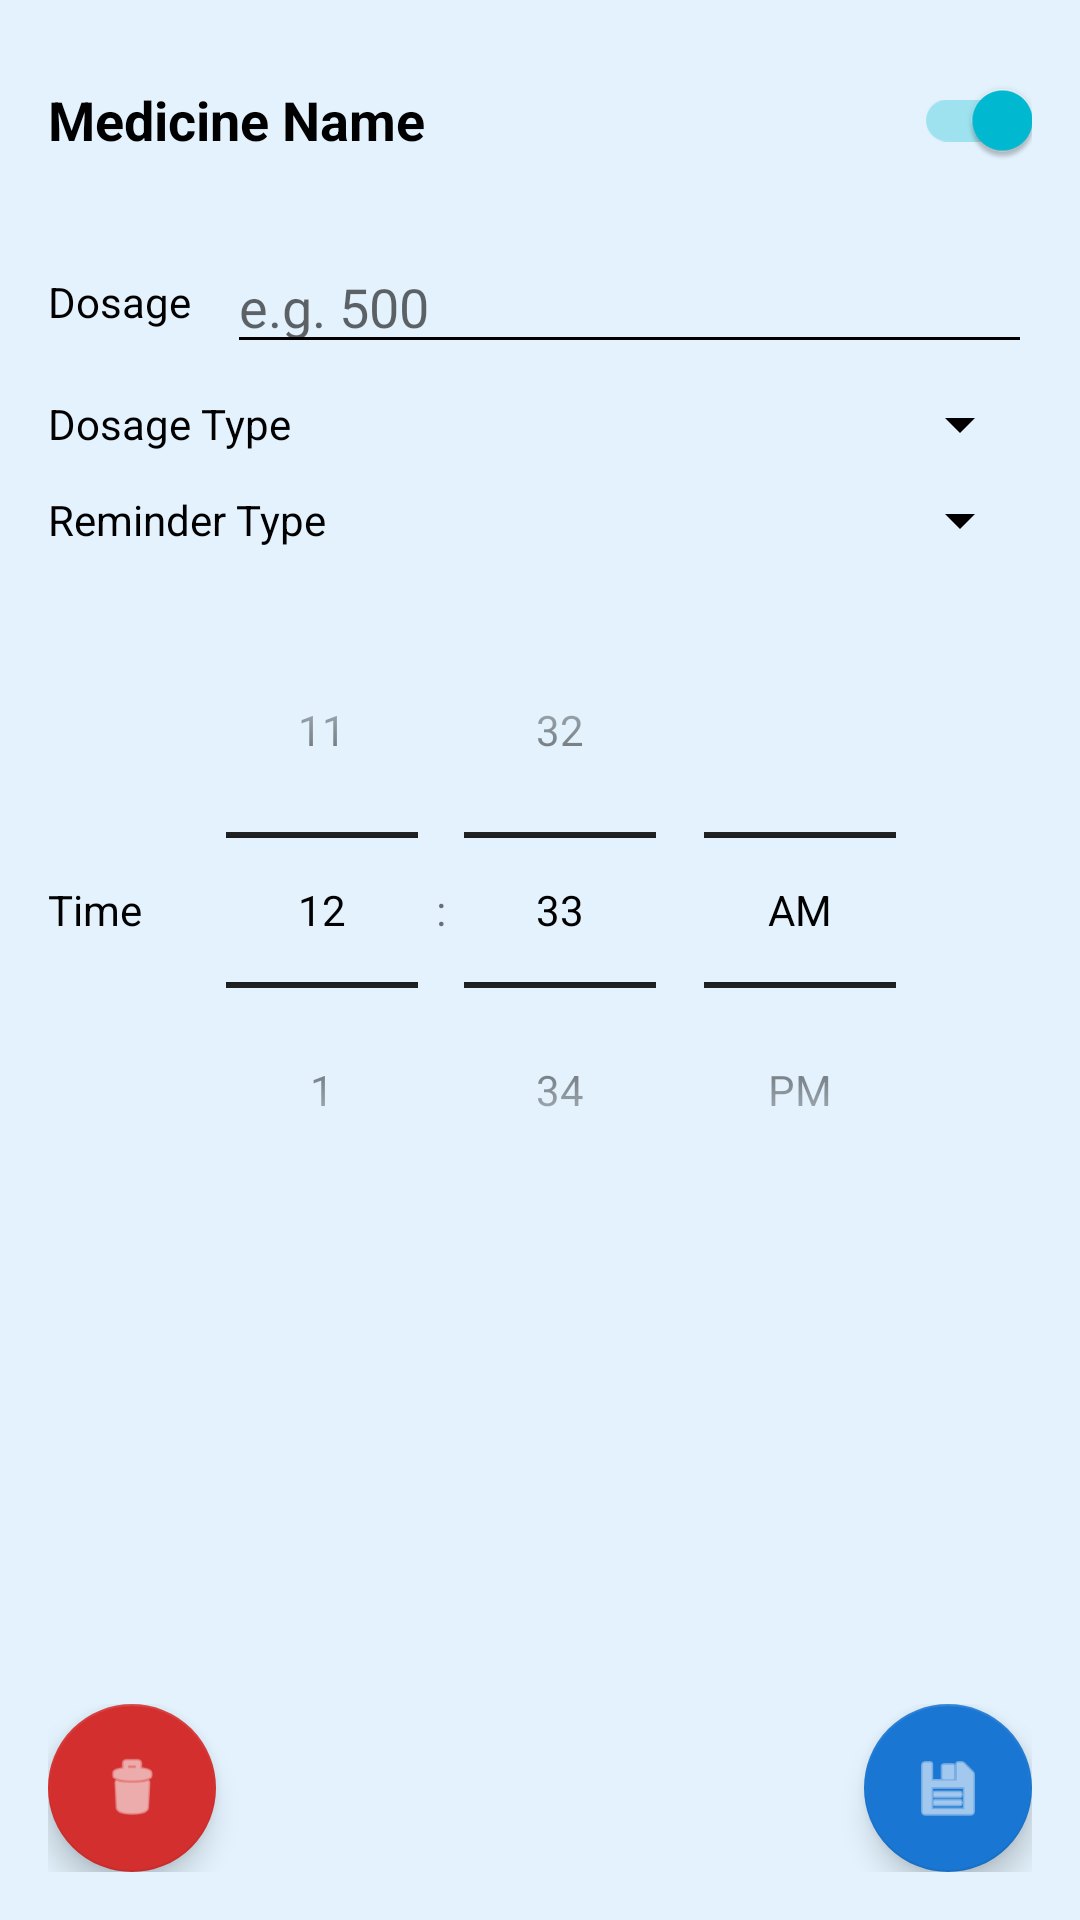

Icon click points for this 1080x1920 phone screenshot, format (x=x, y=y):
Delete: (x=132, y=1788)
Save: (x=948, y=1788)
